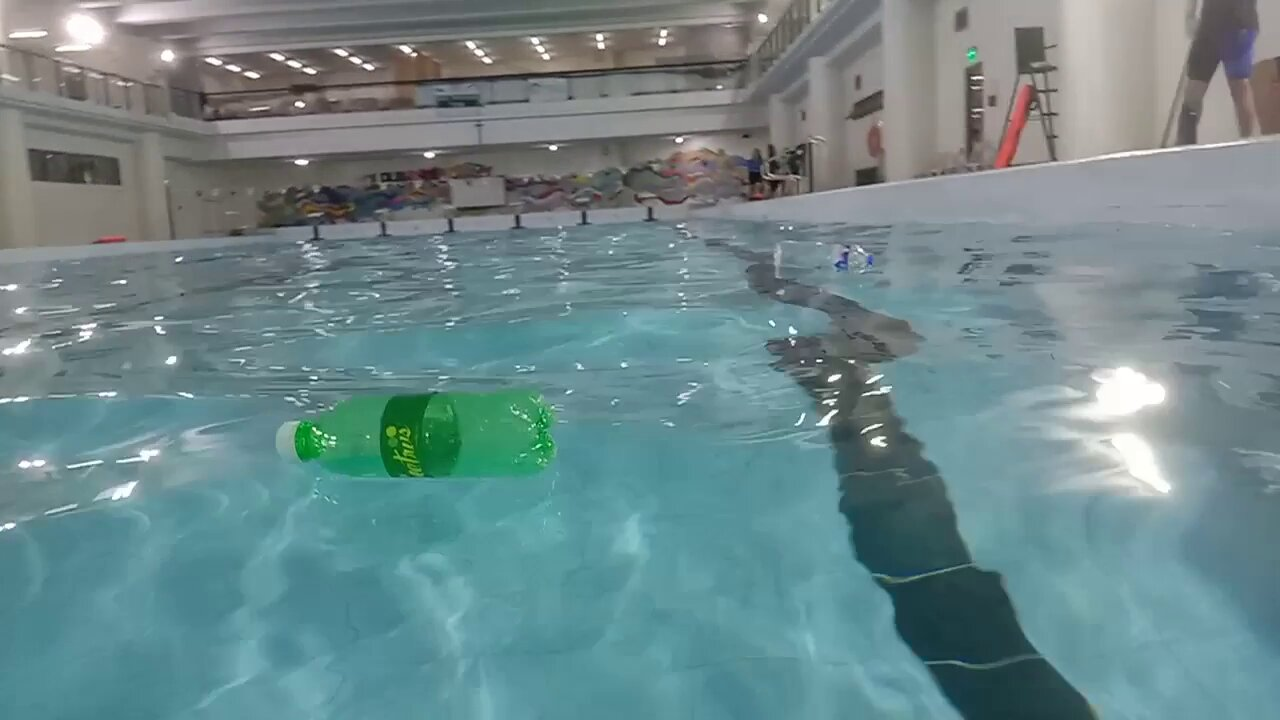plastic_bottle: (276, 391, 555, 477), (770, 239, 880, 278)
